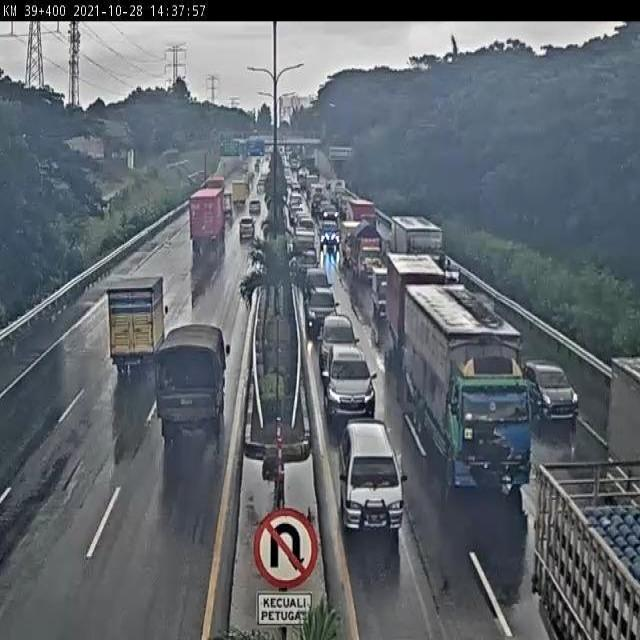ARABA: (527, 359, 576, 421), (318, 220, 343, 251)
KAMYONET: (159, 324, 226, 436), (105, 277, 166, 373)
TIR: (404, 286, 526, 486), (191, 183, 225, 249)
